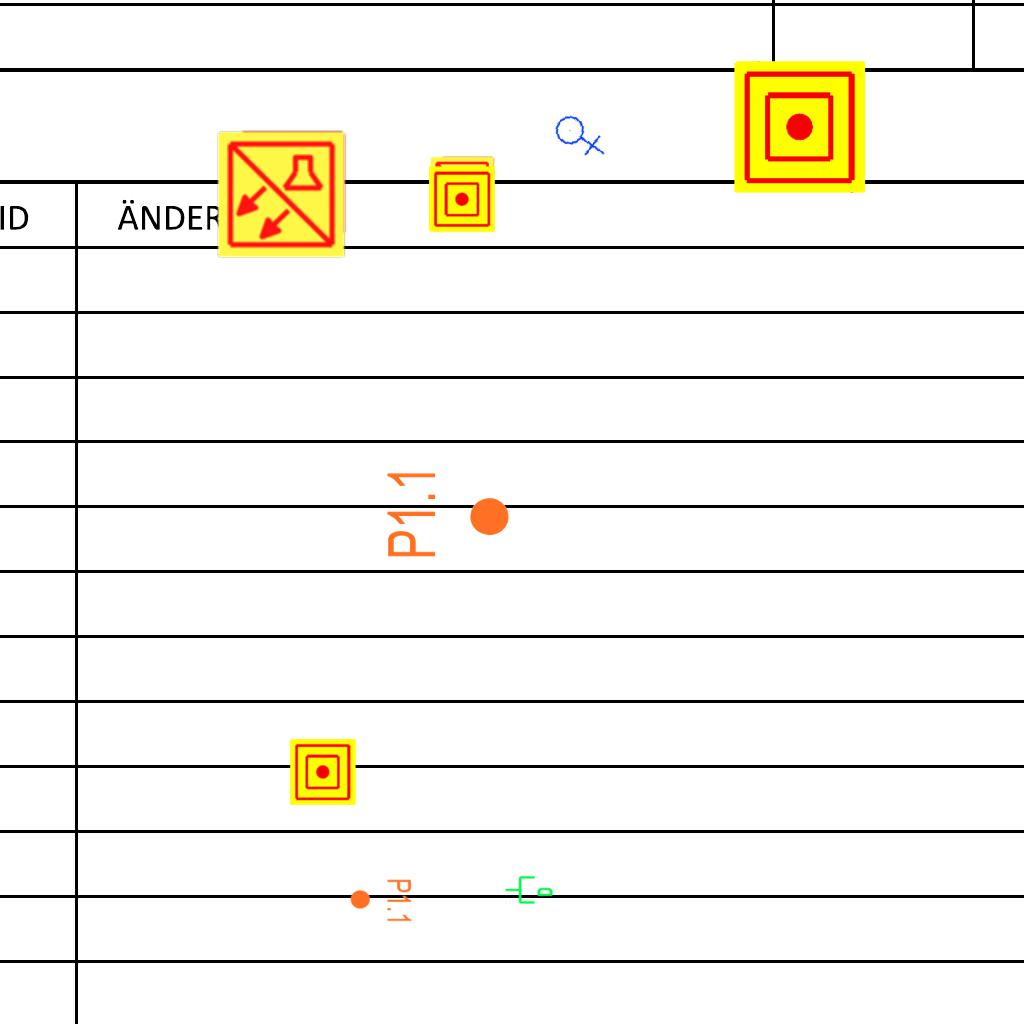Datenanschluss_einfach: (504, 872, 554, 906)
Downlight_LED_Einbauleuchten_Flur: (384, 467, 512, 560), (349, 878, 413, 924)
Elektroanschluss_allgemein_230V_Geraeteanschlussdose_230V: (551, 105, 608, 164)
NAM-Nichtautomatischer_Melder: (734, 61, 866, 193), (290, 739, 356, 805), (429, 166, 495, 232)
OKW_Multisensormelder_(Kombination_optischer_Rauch-Kahlenmonoxid_Waerme-Melder): (215, 128, 347, 260), (429, 155, 495, 221)
